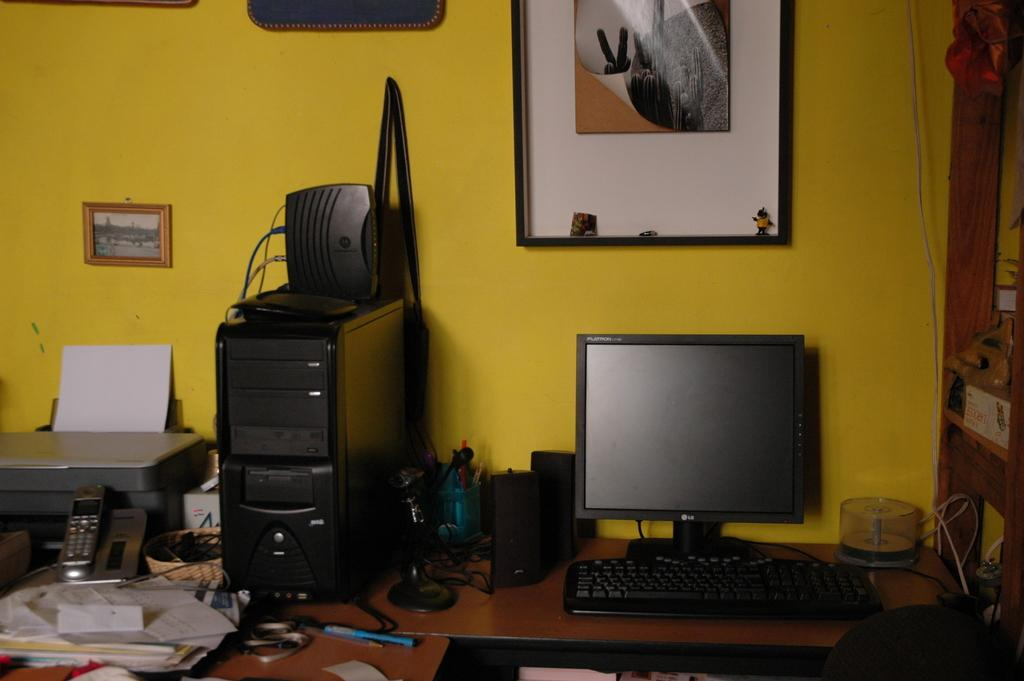Computer-keyboard: (563, 561, 890, 619)
Computer-monitor: (568, 334, 832, 593)
